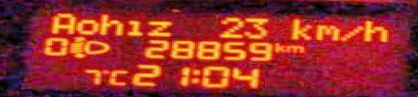0: (203, 64, 230, 87), (42, 36, 68, 55)
1: (175, 65, 191, 88)
2: (129, 63, 159, 89), (142, 38, 167, 59), (219, 15, 242, 37)
3: (244, 15, 270, 36)
4: (230, 65, 260, 88)
5: (224, 38, 247, 61)
7: (82, 67, 100, 84)
8: (168, 38, 193, 59), (194, 40, 219, 60)
X: (364, 19, 390, 43), (48, 10, 74, 33), (99, 13, 125, 36), (290, 15, 310, 41), (313, 22, 338, 42), (147, 18, 172, 36), (74, 17, 99, 34), (108, 67, 128, 87), (339, 24, 362, 41), (125, 18, 143, 37), (190, 66, 200, 85), (271, 41, 284, 54), (284, 44, 302, 53)
